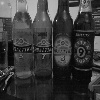beer: (51, 1, 75, 73)
